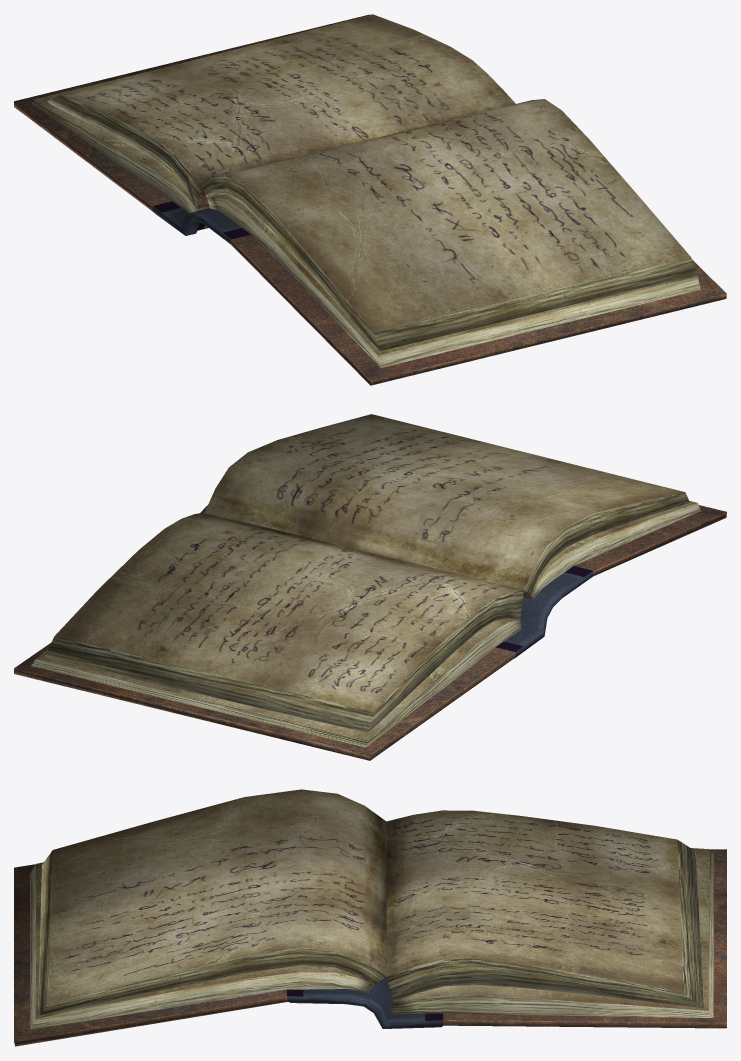
The model's file is Journal.FBX.
The picture shows the model from 3 angles, top to bottom: view 1: azimuth 30°, elevation 25°; view 2: azimuth 150°, elevation 25°; view 3: azimuth 270°, elevation 25°; orthographic projection.
Parts seen in each view (by area): view 1: Journal; view 2: Journal; view 3: Journal.
Part boxes in pixels (x1,y1,x2,y2): Journal: (14,14,726,385); Journal: (14,414,726,760); Journal: (14,789,726,1046).
Size of the model in its own units: 36.39 by 8.9 by 62.63.
